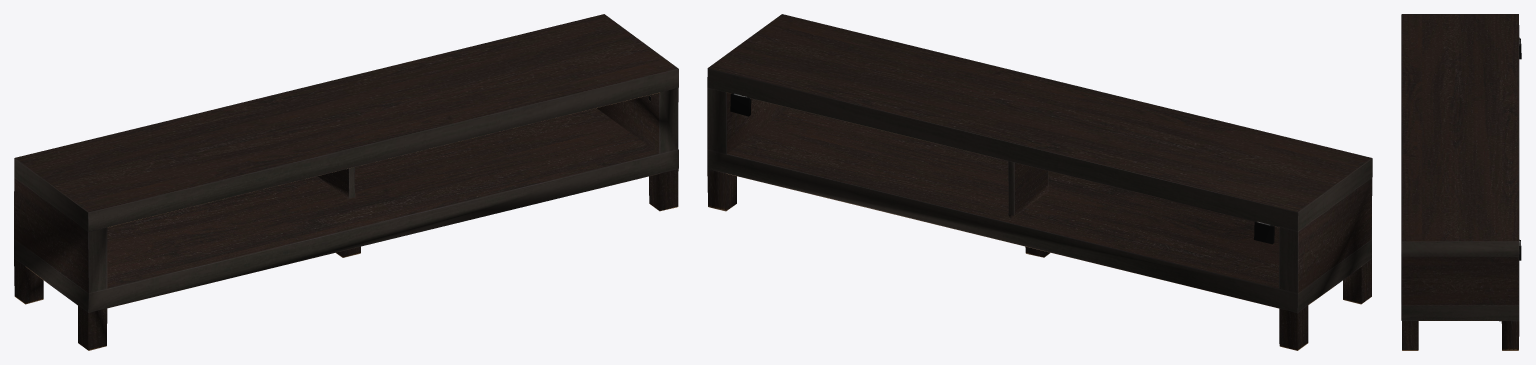
File: lack_tv_unit_black_brown.glb
3 views of the same model, side by side, from view 1: azimuth 30°, elevation 25°; view 2: azimuth 150°, elevation 25°; view 3: azimuth 270°, elevation 25° (orthographic). The views are drawn at different scales.
Visible parts, largest first — view 1: ProcessedMeshNode; view 2: ProcessedMeshNode; view 3: ProcessedMeshNode.
Part boxes in pixels (x1,y1,x2,y2): ProcessedMeshNode: (14, 14, 678, 350); ProcessedMeshNode: (707, 14, 1372, 350); ProcessedMeshNode: (1401, 14, 1521, 350).
Bounding box in the file's own units: 1.6 × 0.3608 × 0.3582.
1 material, 1 textured.
